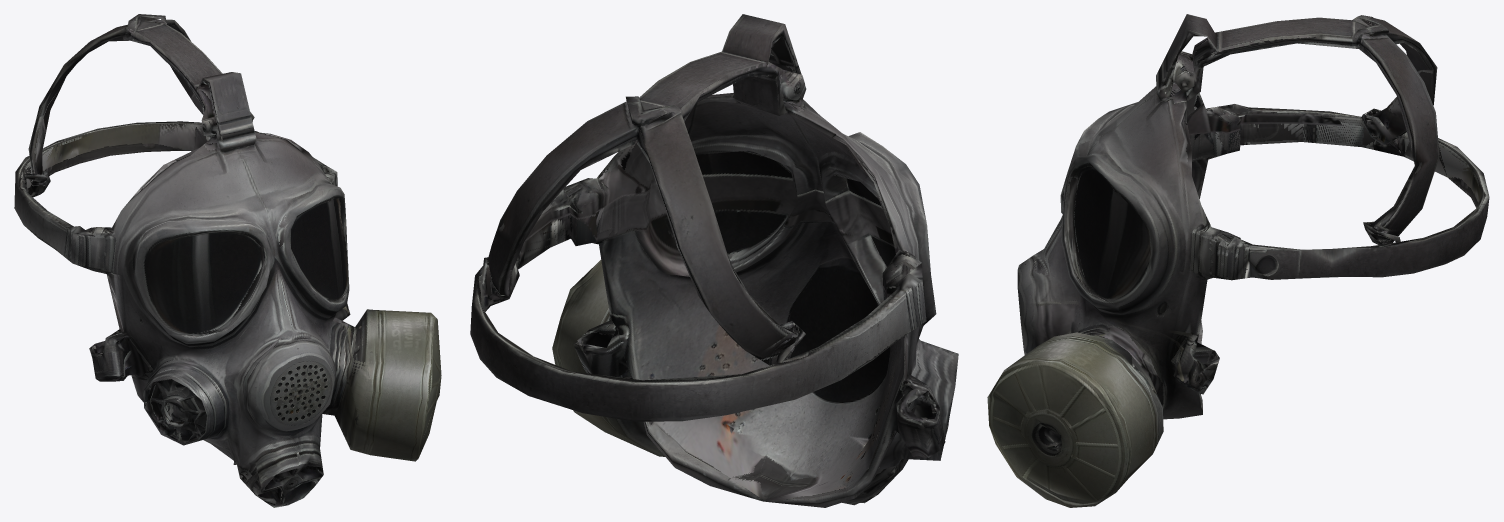
The model's file is Military Gas Mask.fbx.
3 renders of one model, left to right at view 1: azimuth 30°, elevation 25°; view 2: azimuth 150°, elevation 25°; view 3: azimuth 270°, elevation 25°, orthographic. The views are drawn at different scales.
Parts seen in each view (by area): view 1: texture_mapping; view 2: texture_mapping; view 3: texture_mapping.
Part boxes in pixels (x1,y1,x2,y2): texture_mapping: (14,14,441,507); texture_mapping: (470,14,958,507); texture_mapping: (987,14,1489,507).
Size of the model in its own units: 0.7881 by 0.9913 by 0.9335.
1 material, 1 textured.
